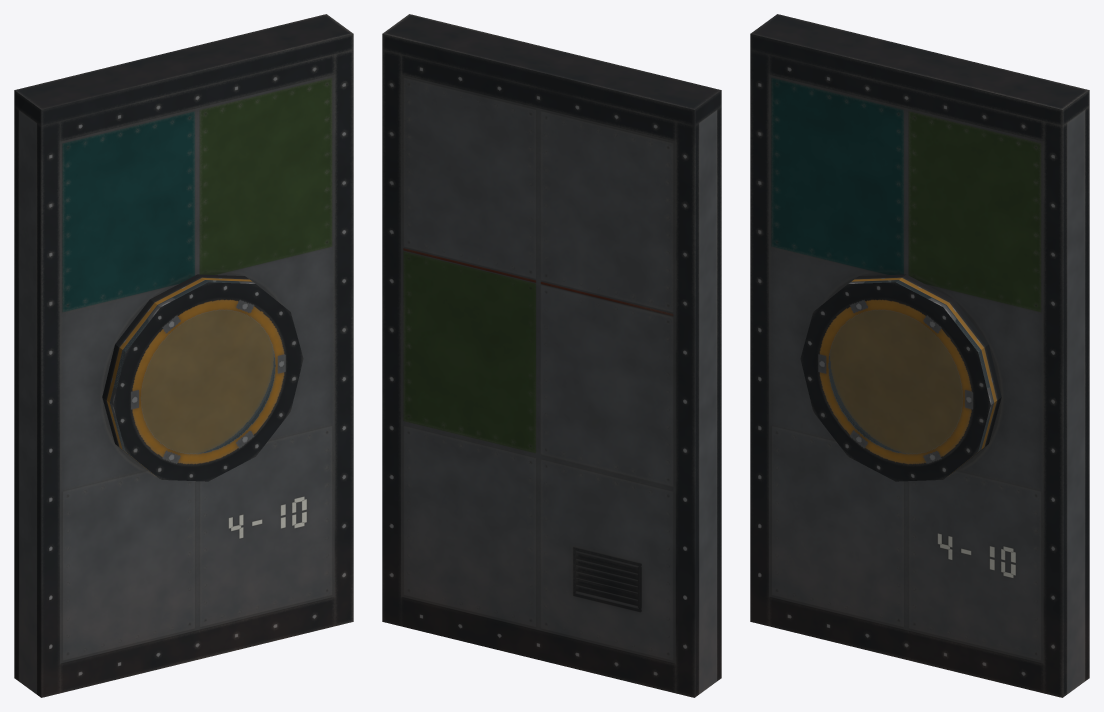
File: hull_wall_port.glb
The picture shows the model from 3 angles, left to right: view 1: azimuth 30°, elevation 25°; view 2: azimuth 150°, elevation 25°; view 3: azimuth 330°, elevation 25°; orthographic projection.
Parts seen in each view (by area): view 1: hull_wall_port; view 2: hull_wall_port; view 3: hull_wall_port.
Boxes of the visible parts, x1,y1,x2,y2 form: hull_wall_port: (14, 14, 353, 697); hull_wall_port: (382, 14, 721, 697); hull_wall_port: (750, 14, 1089, 697).
Size of the model in its own units: 2 by 3.6 by 0.42.
Materials: 1 (1 with a texture image).
